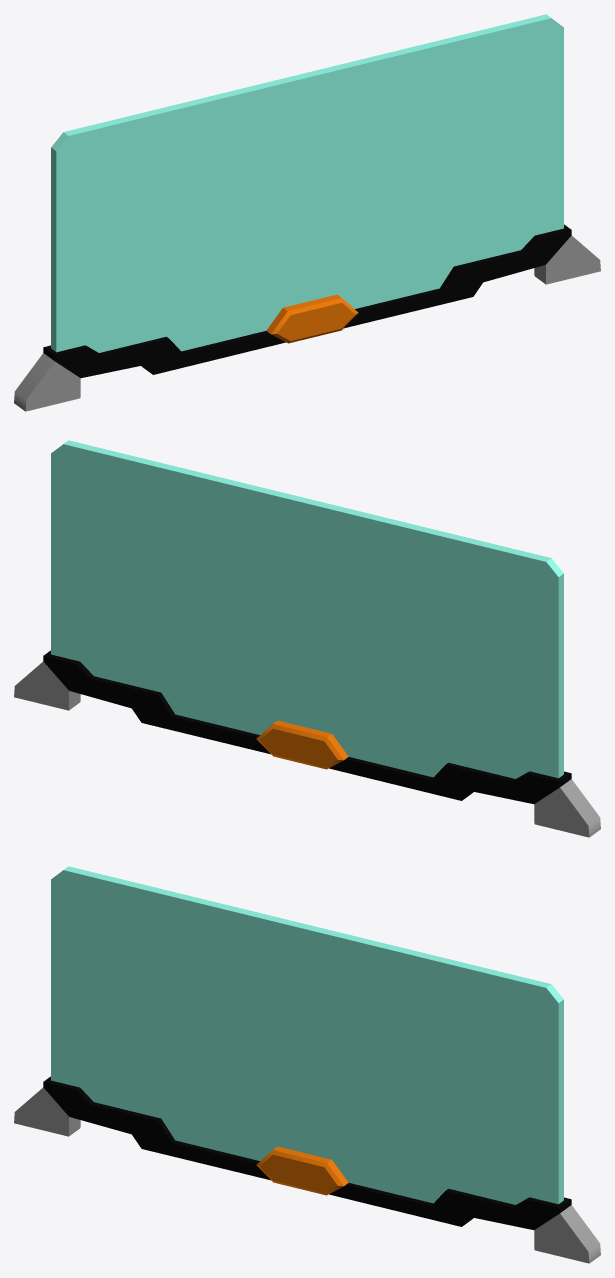
The model's file is SM_schermo02.fbx.
3 views of the same model, one above another, from view 1: azimuth 30°, elevation 25°; view 2: azimuth 150°, elevation 25°; view 3: azimuth 330°, elevation 25° (orthographic).
Visible parts, largest first — view 1: schermo2_lp; view 2: schermo2_lp; view 3: schermo2_lp.
Boxes of the visible parts, <box> form: schermo2_lp: <box>14,14,600,411</box>; schermo2_lp: <box>14,440,600,837</box>; schermo2_lp: <box>14,866,600,1263</box>.
Bounding box in the file's own units: 154 × 66.88 × 8.23.
Materials: 1 (1 with a texture image).
